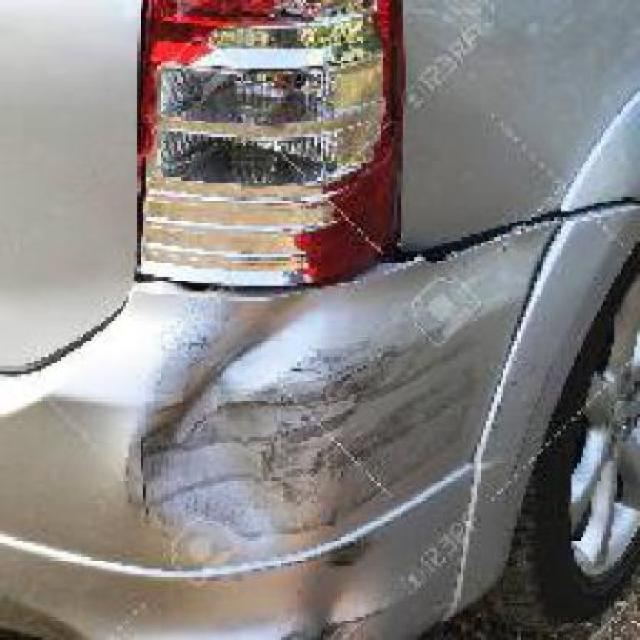damaged-tail-light: (130, 0, 396, 291)
dent-or-scratch: (158, 289, 477, 554)
